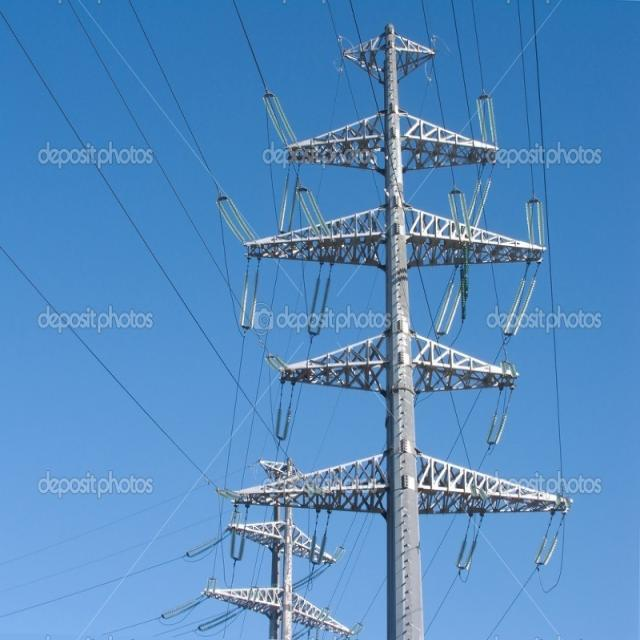non-critical vegetation: (264, 21, 566, 634), (219, 437, 347, 635)
